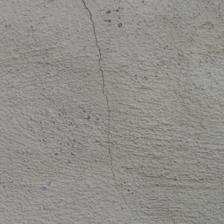Crack: (83, 4, 120, 181)
